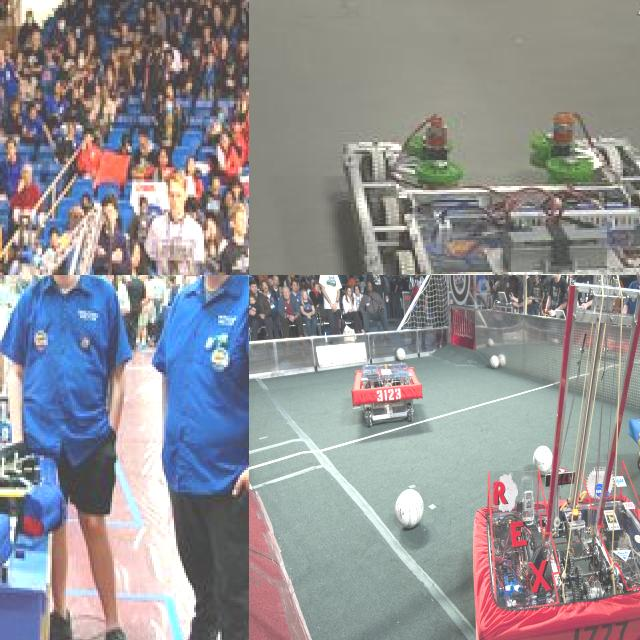FRC-Robots: (308, 53, 640, 275), (472, 275, 640, 640), (0, 275, 96, 576), (0, 181, 195, 275), (341, 351, 426, 437)
